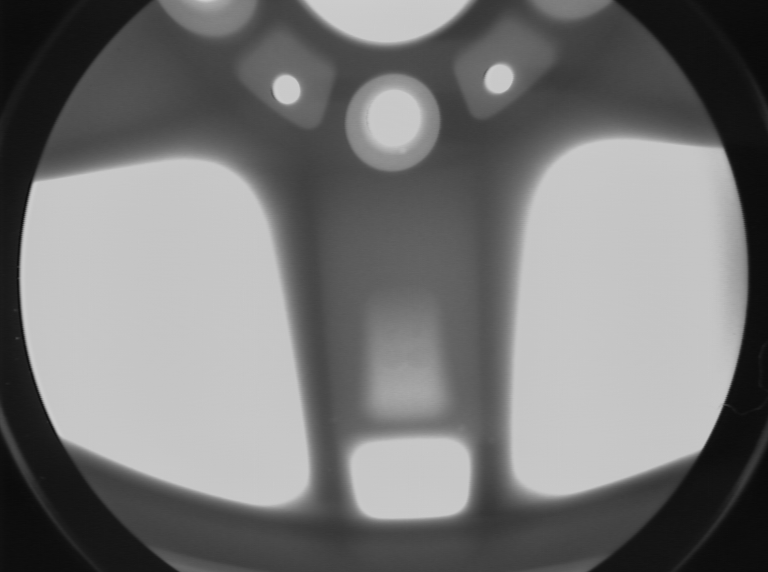defect: (322, 411, 338, 430)
